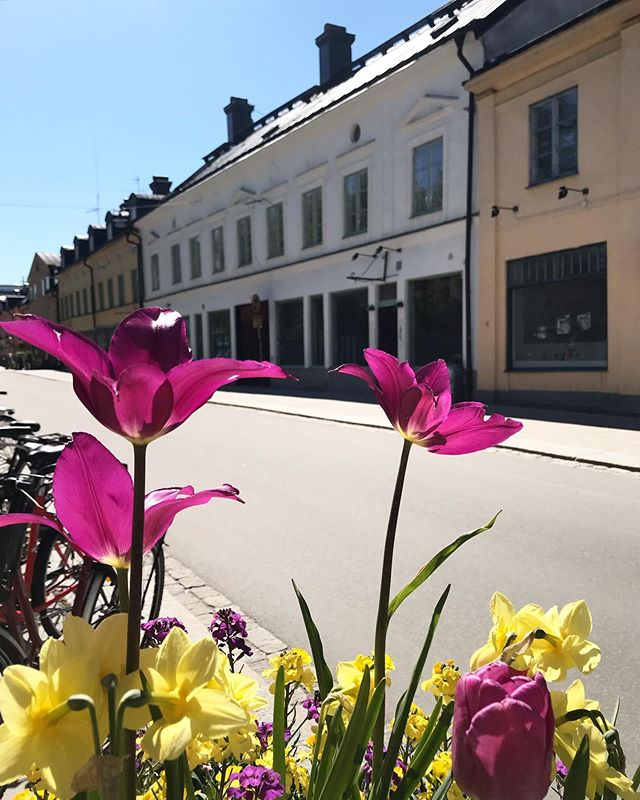building: (149, 5, 465, 371), (479, 1, 640, 397), (54, 192, 145, 350)
flowers: (1, 309, 561, 800)
sky: (1, 1, 196, 182)
